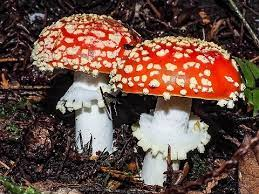Amanita muscaria: (120, 32, 240, 180), (30, 3, 141, 153)
